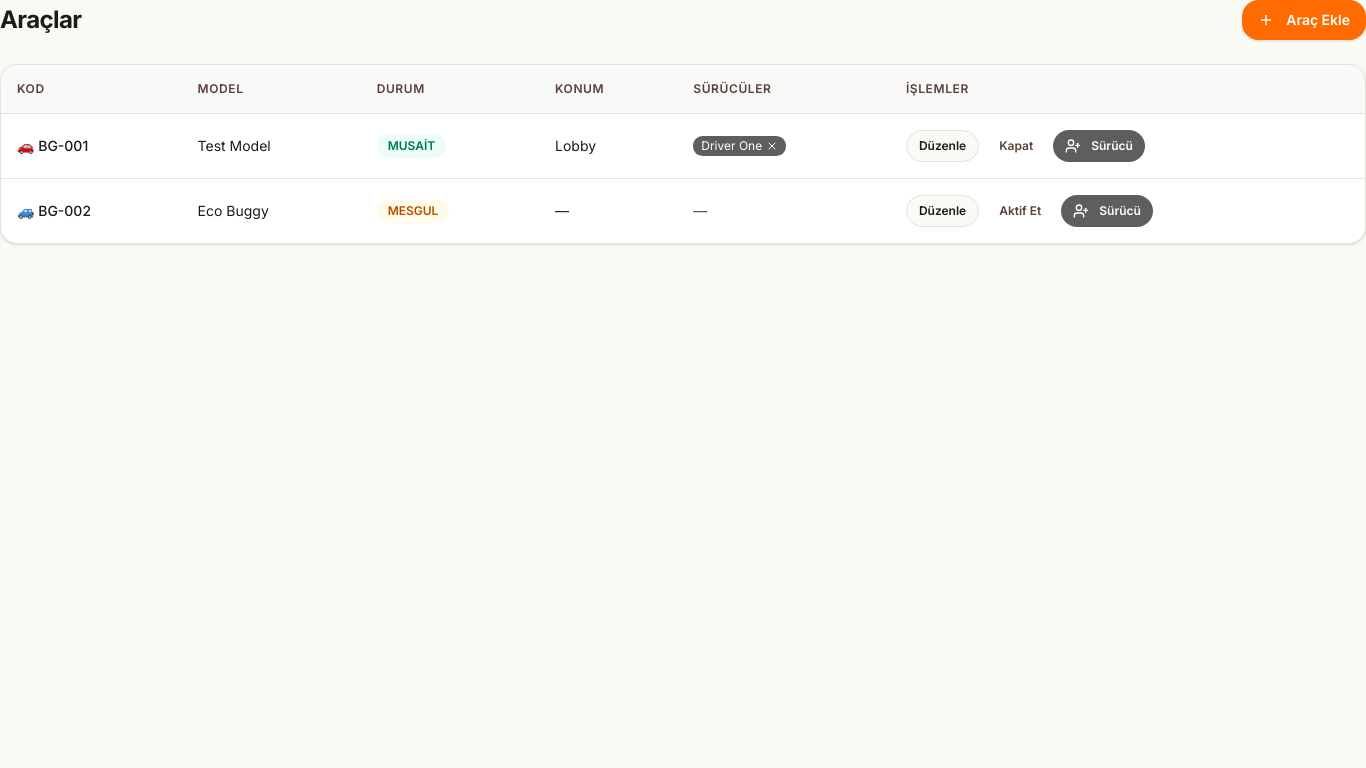
Test case: BuggiesPage › Araç Ekle button opens dialog
Expected: the heading "Araçlar" is shown, top-left (0, 4), bottom-right (81, 36)
Step 1. Click the button "Araç Ekle" → point(1304, 20), box top-left (1242, 0), bottom-right (1365, 40)
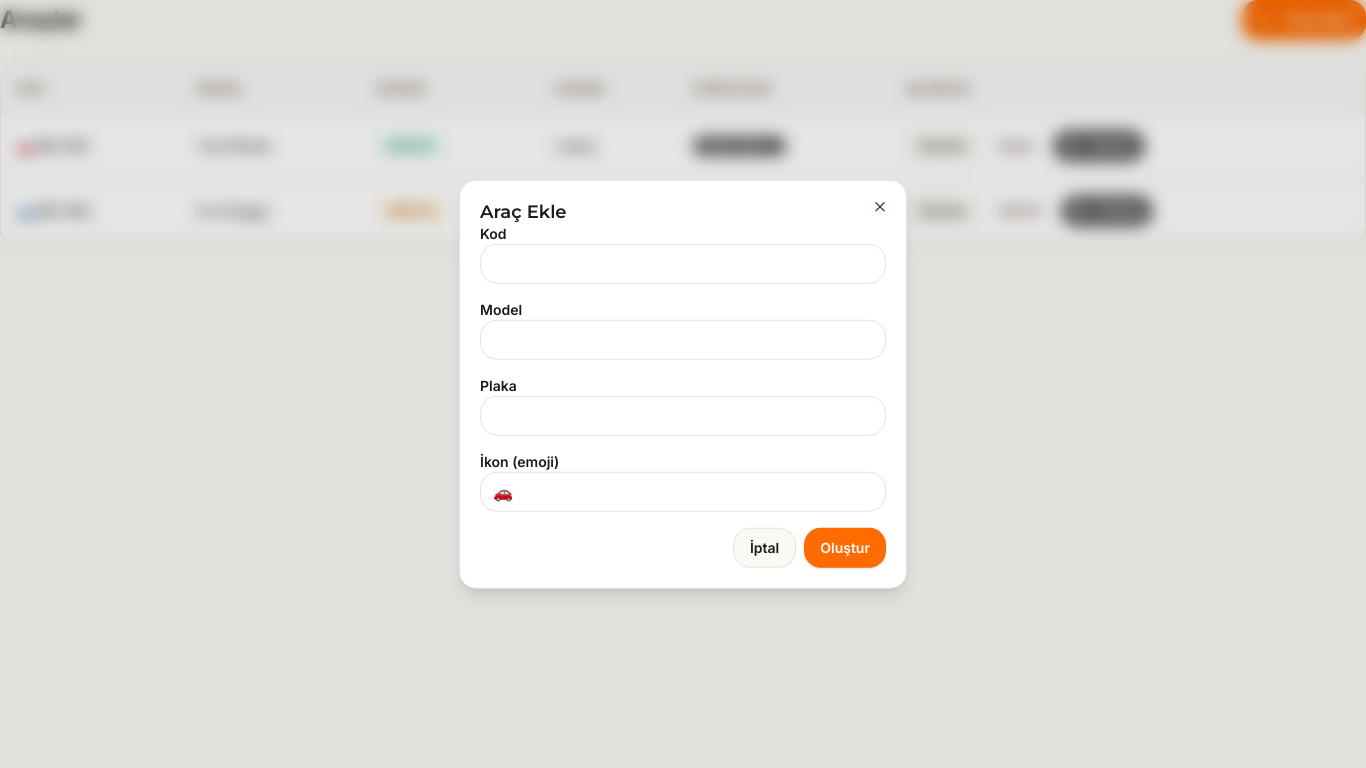
Result: the heading "Araç Ekle" is shown at top-left (480, 201), bottom-right (566, 223)
